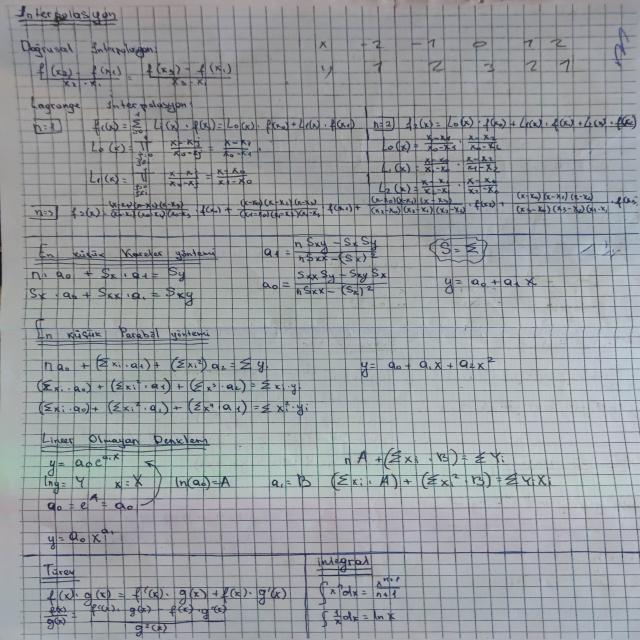math: (310, 30, 579, 82), (43, 588, 294, 638), (82, 133, 266, 199), (22, 199, 507, 223), (26, 116, 640, 134), (258, 235, 394, 301), (377, 133, 503, 199), (38, 453, 170, 514), (27, 267, 200, 307), (36, 394, 318, 418), (30, 60, 244, 91), (34, 374, 310, 397), (266, 470, 556, 491), (37, 351, 272, 375), (506, 187, 640, 220), (354, 354, 504, 378), (344, 448, 511, 468), (432, 274, 549, 298), (318, 574, 401, 607), (420, 235, 490, 263), (43, 526, 116, 551), (318, 607, 400, 629), (175, 473, 233, 493)
text: (24, 234, 224, 264), (28, 318, 220, 347), (29, 91, 200, 115), (7, 1, 124, 30), (37, 431, 212, 450), (13, 38, 165, 58), (312, 549, 382, 571), (41, 563, 77, 579)
